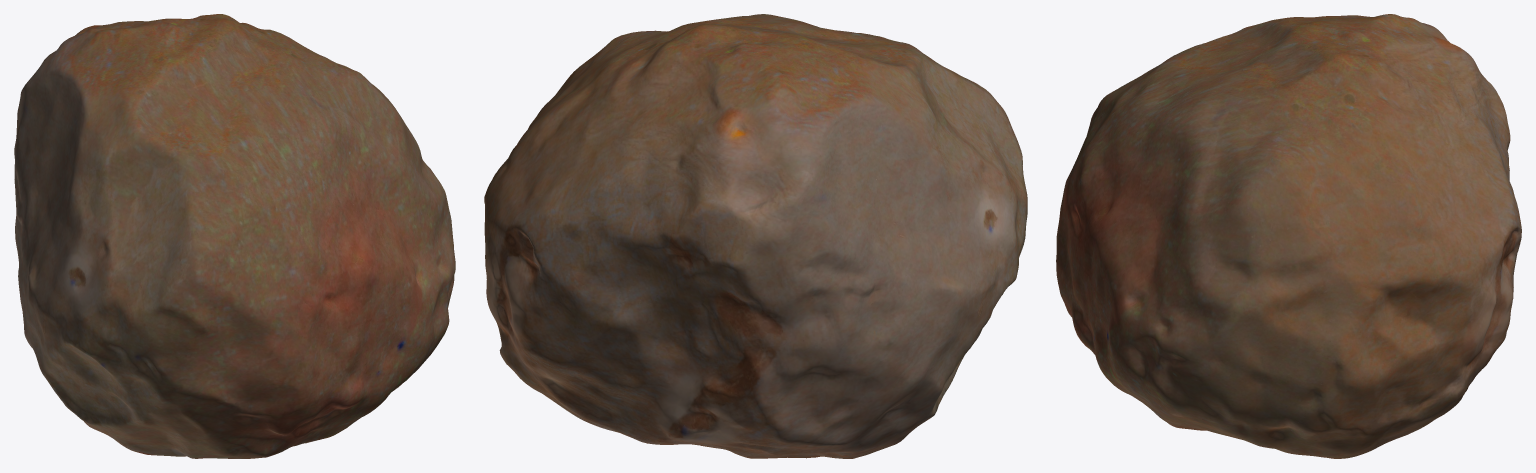
Rendered from asteroid.obj.
3 views of the same model, side by side, from view 1: azimuth 30°, elevation 25°; view 2: azimuth 150°, elevation 25°; view 3: azimuth 270°, elevation 25° (orthographic). The views are drawn at different scales.
Visible parts, largest first — view 1: file1; view 2: file1; view 3: file1.
Boxes of the visible parts, x1,y1,x2,y2 form: file1: (14,14,455,458); file1: (484,14,1027,458); file1: (1056,14,1521,458).
Size of the model in its own units: 1.99 by 1.82 by 2.
1 material, 1 textured.
